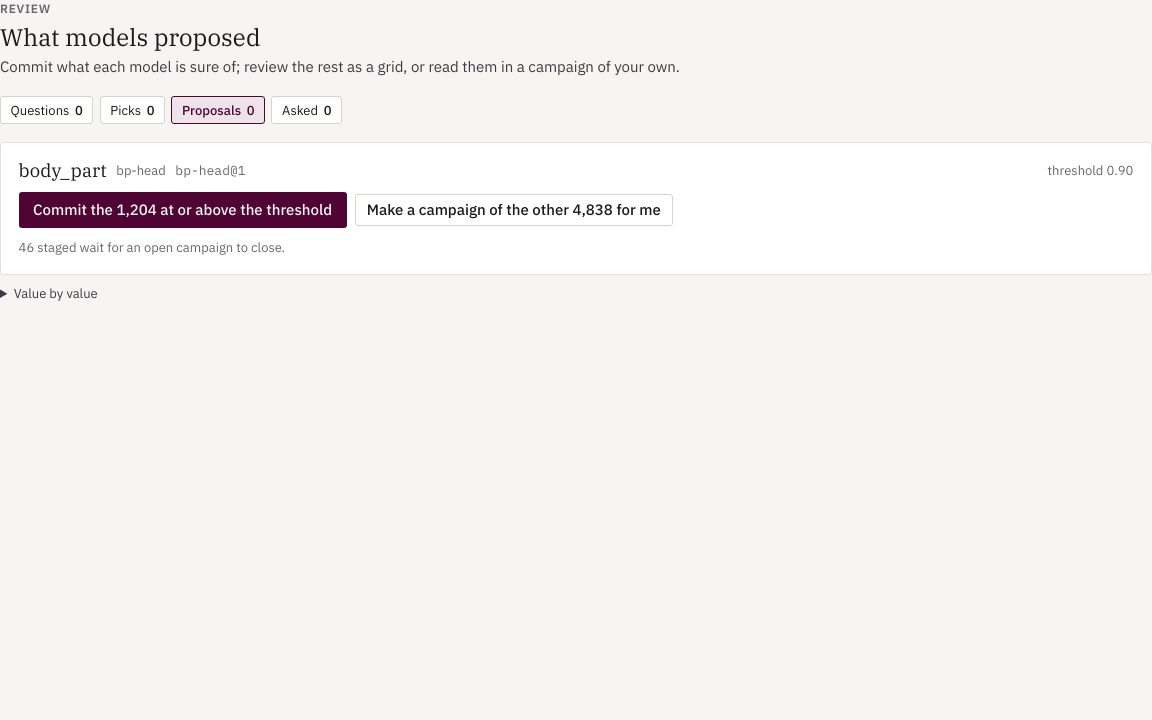
it: the Proposals page › says an older engine's re-sort words as they come
This screenshot has width=1152, height=720.
Click the button "Commit the 1,204 at or above the threshold": click(183, 210) [19,192,347,228]
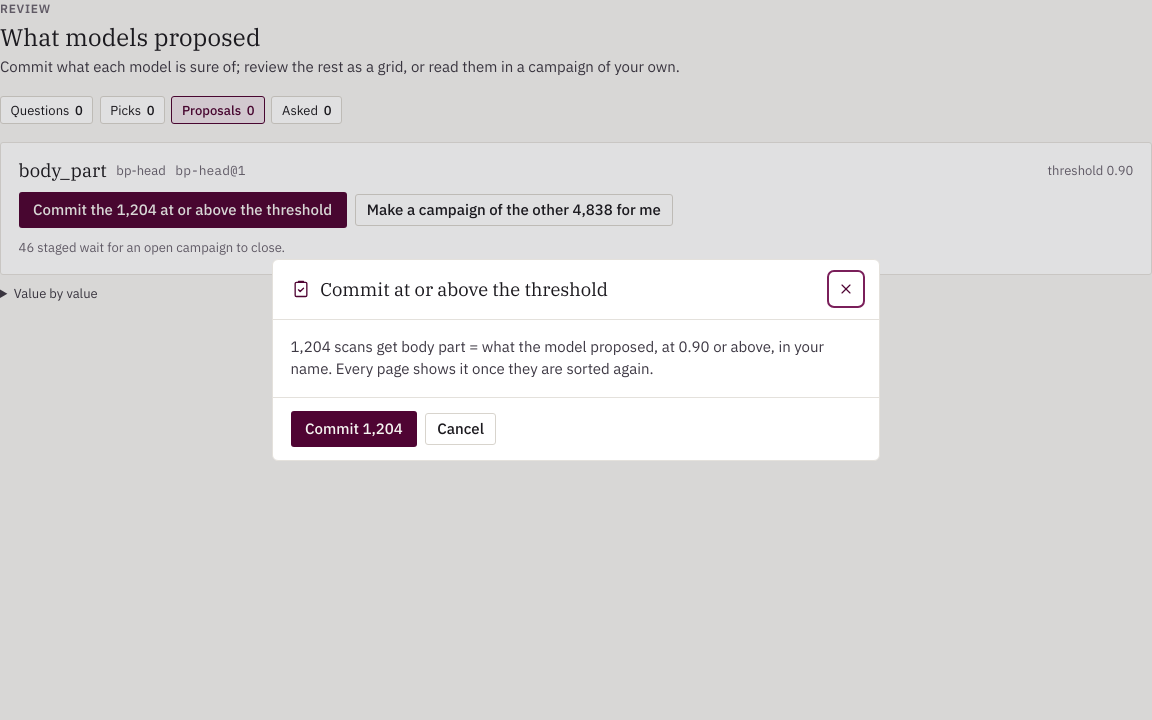
Click the button "Commit 1,204": click(354, 429) [291,411,417,447]
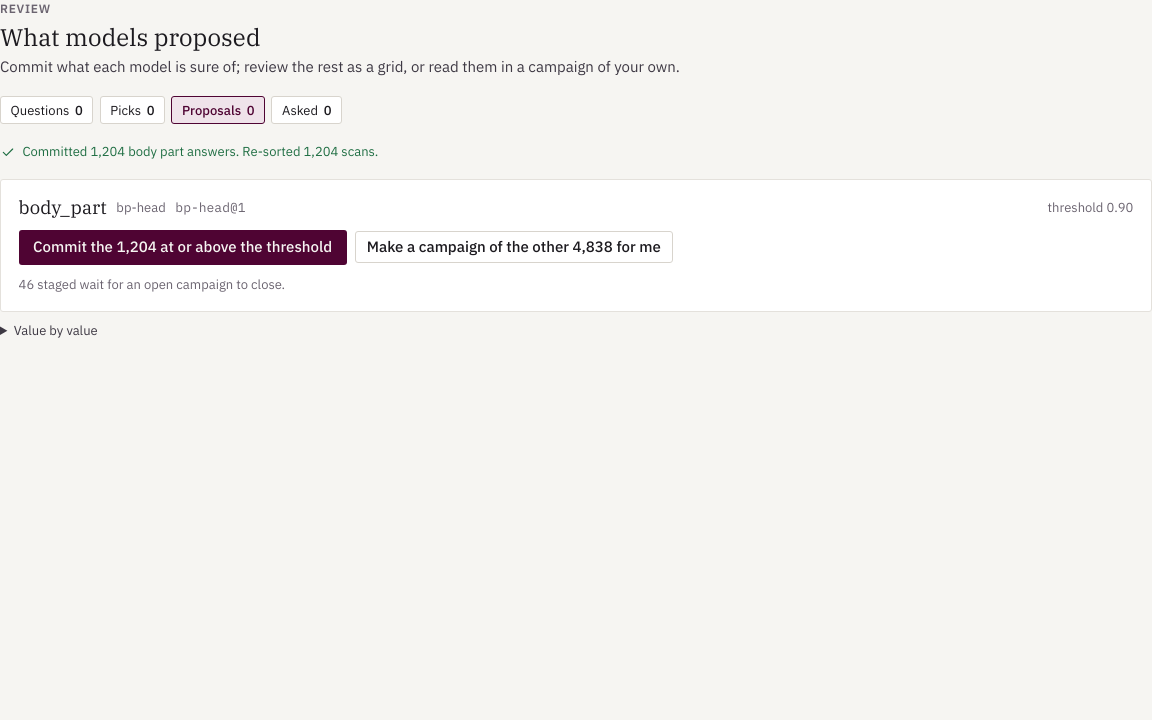
Check: the element with class "said" reads "Committed 1,204 body part answers. Re-sorted 1,204 scans.", box [22,143,378,160]
